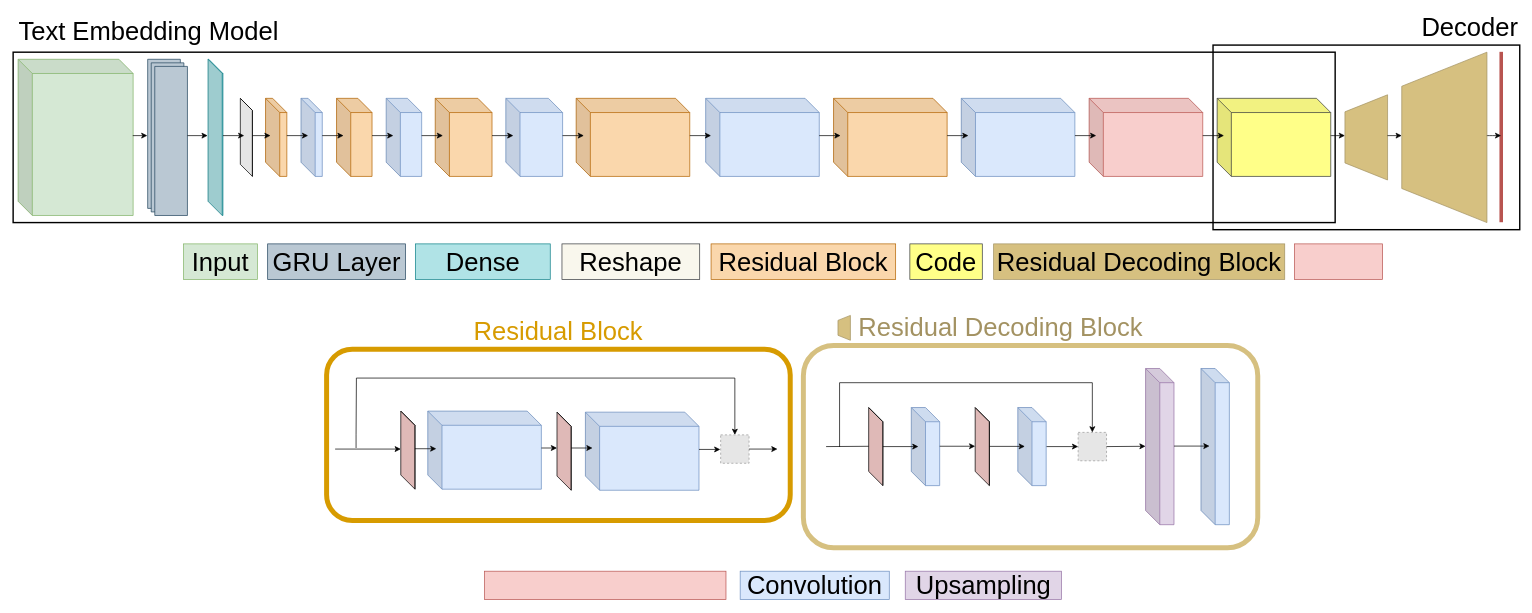
The diagram is 1532 pixels wide and 613 high, and some of its shapes have lost their labels. Grey dashed boxes stand in for pictures. The centre of each missing label's shape, as x and y in pixels:
Batch Normalization: the point at 605,585
Output: the point at 1338,261
